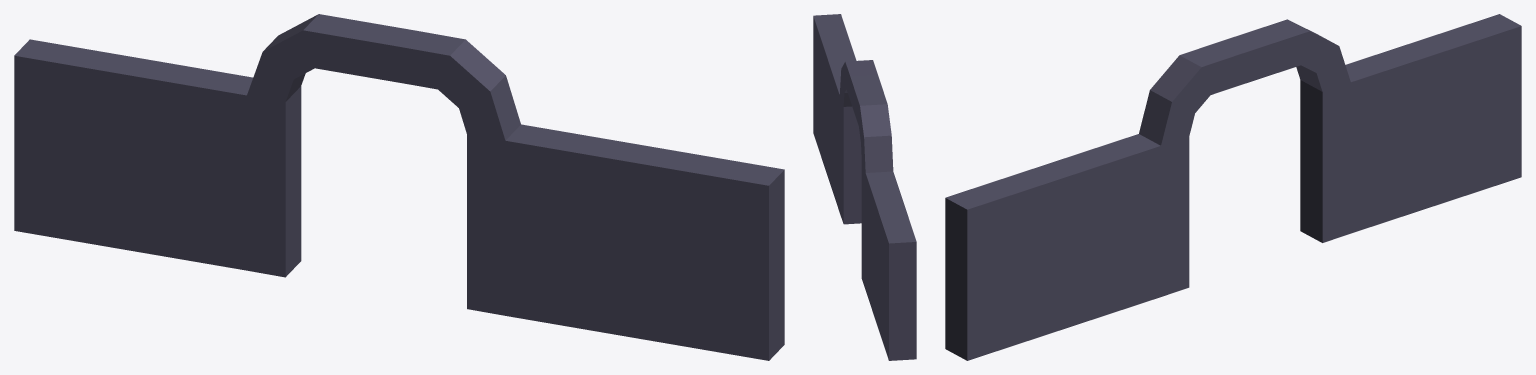
The model's file is gate.fbx.
The picture shows the model from 3 angles, left to right: view 1: azimuth 30°, elevation 25°; view 2: azimuth 150°, elevation 25°; view 3: azimuth 270°, elevation 25°; orthographic projection. The views are drawn at different scales.
Parts seen in each view (by area): view 1: gate; view 2: gate; view 3: gate.
Part boxes in pixels (x1,y1,x2,y2): gate: [14, 14, 784, 360]; gate: [813, 14, 916, 360]; gate: [945, 14, 1521, 360].
Bounding box in the file's own units: 5187 × 2691 × 6487.
